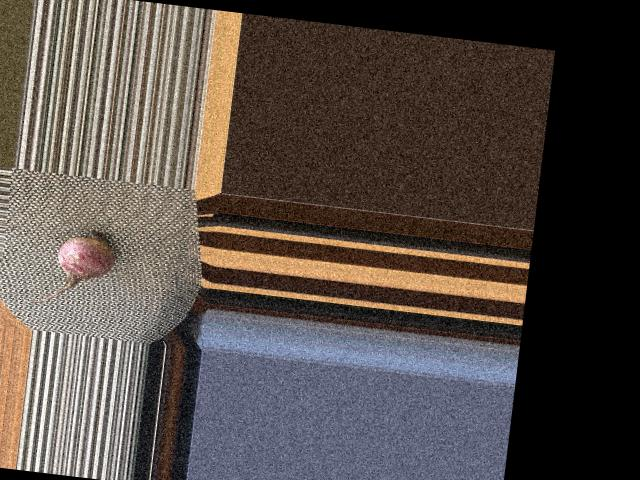beet: (27, 223, 118, 312)
